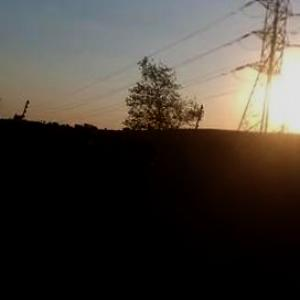follow: (88, 134, 159, 299)
